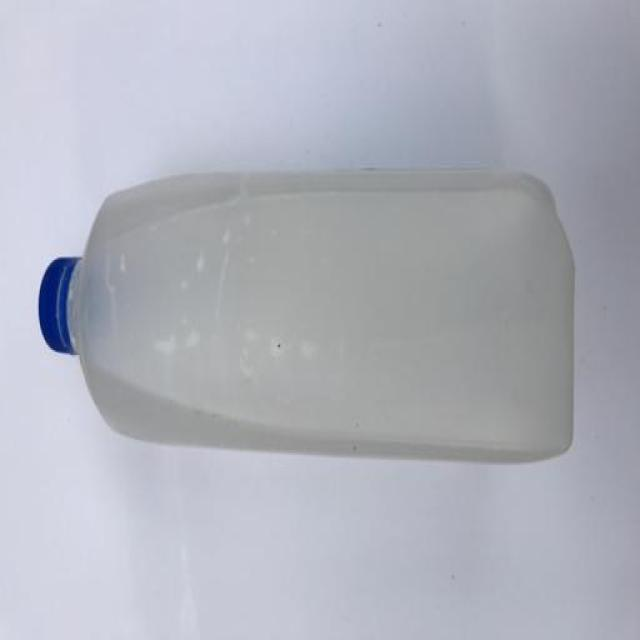plastic: (37, 164, 575, 463)
